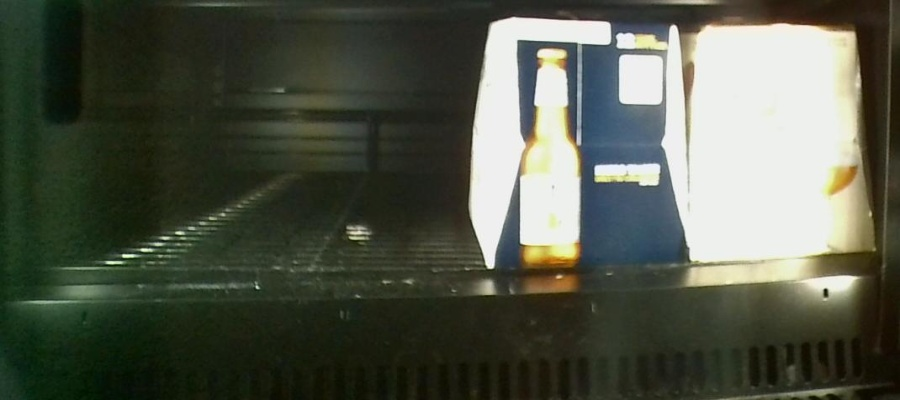bottle: (476, 17, 687, 267), (684, 23, 874, 255)
